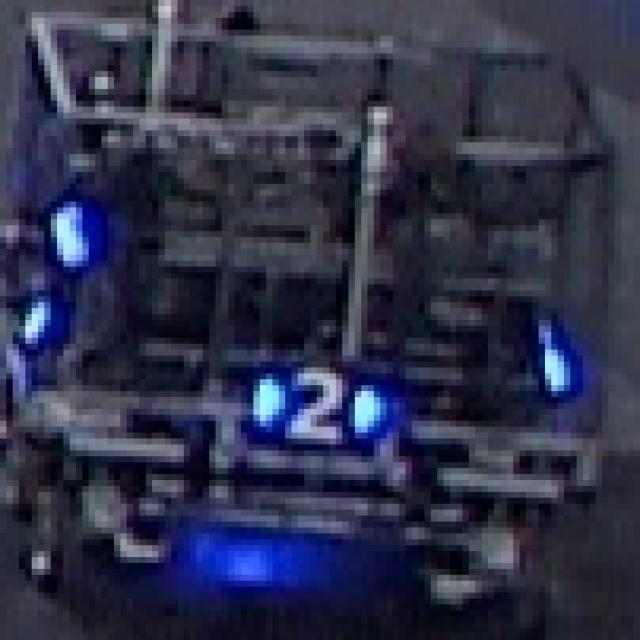B2: (247, 362, 387, 444)
